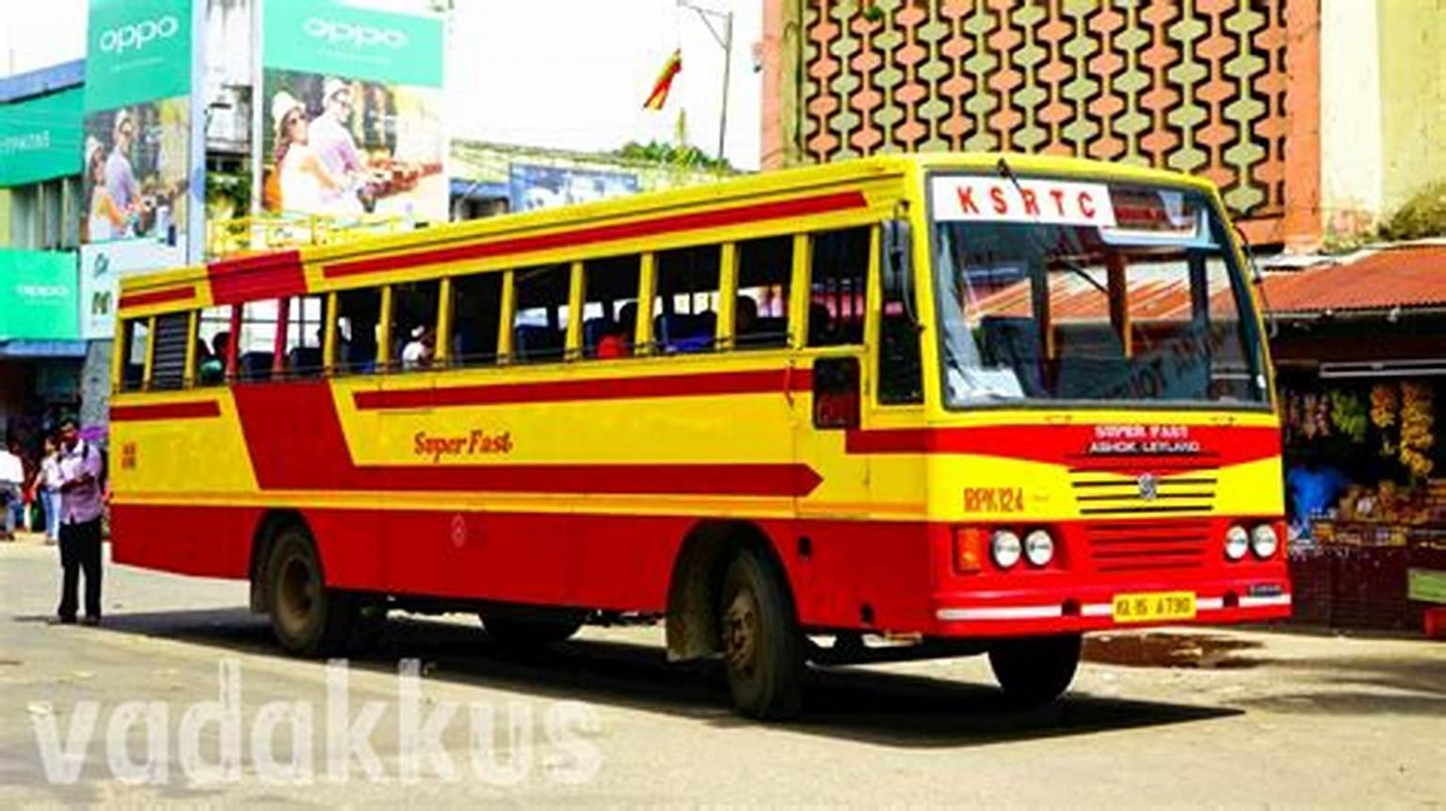Bus: (104, 153, 1296, 723)
